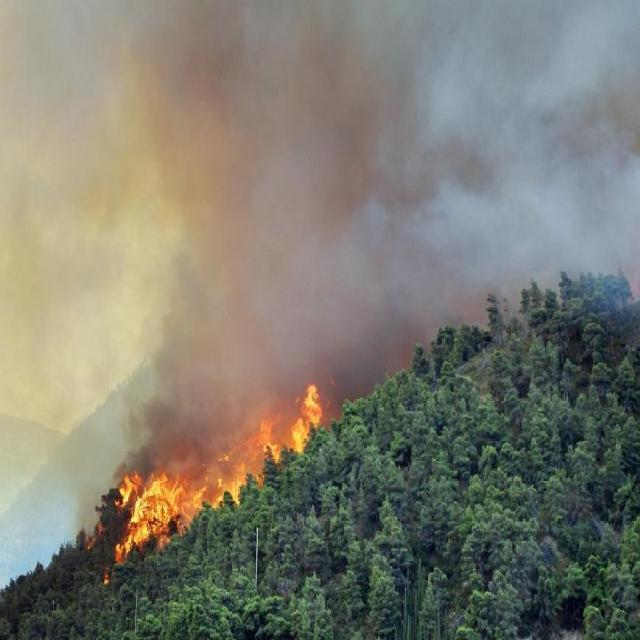Fire: (100, 384, 323, 586)
Smoke: (112, 1, 640, 498)
